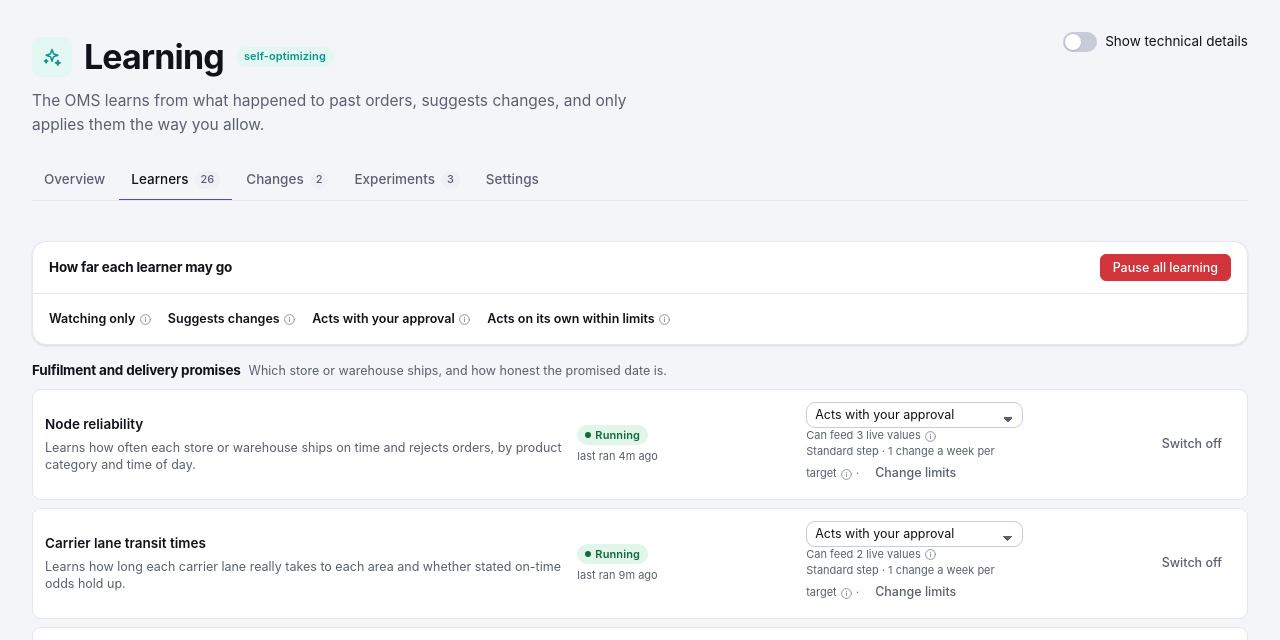
Test: Learning Console › lets a configuration admin change a learner’s limits
Click the button with aria-label "Change limits for Node reliability".
click(916, 473)  # box [862, 460, 969, 487]
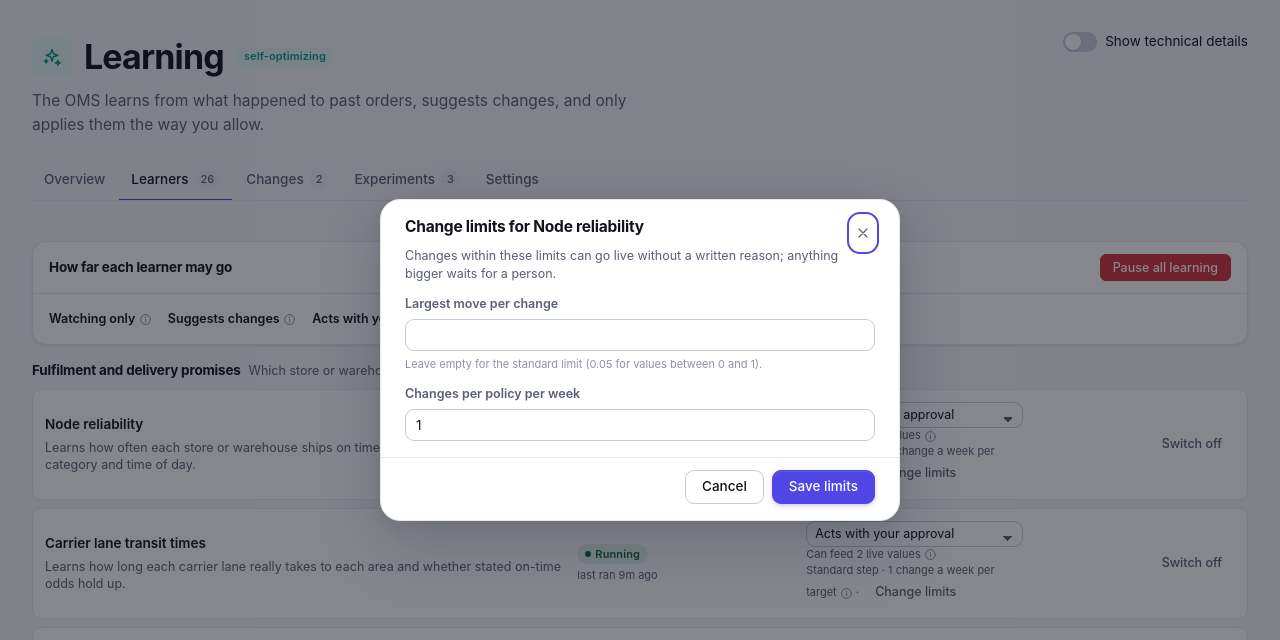
Type "0.02" into the number field labelled "Largest move per change".
click(640, 335); type("0.02")  # box [405, 319, 875, 351]
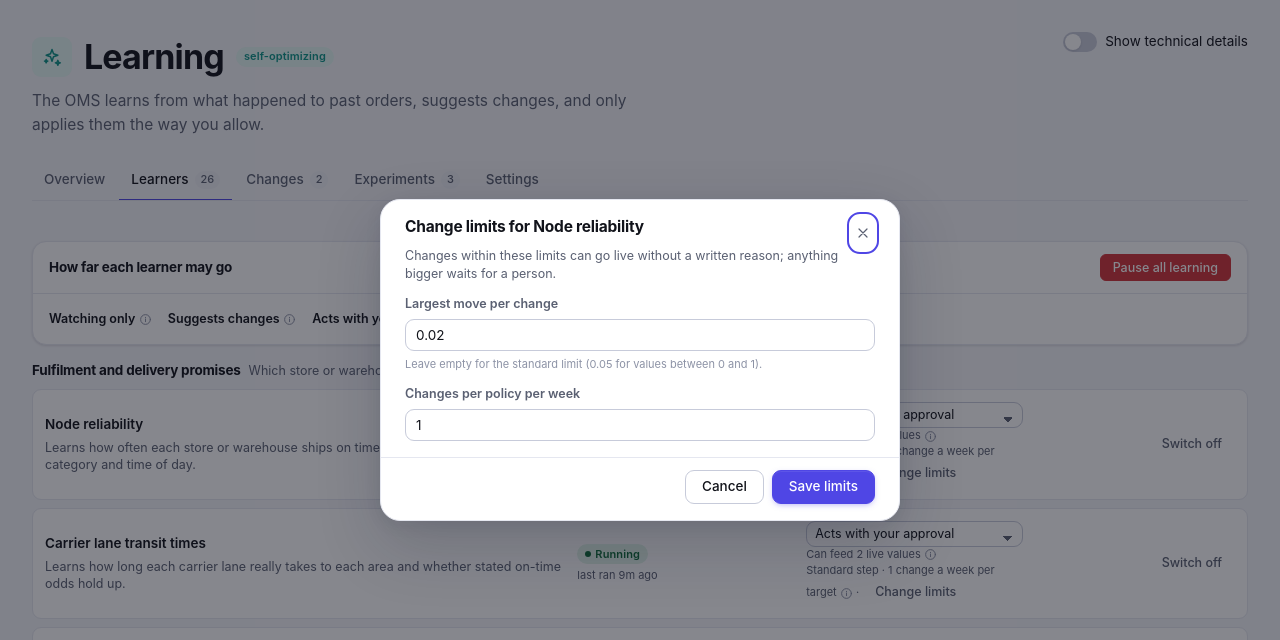
Replace the text in the number field labelled "Changes per policy per week" with "2" at (640, 425), box [405, 409, 875, 441]
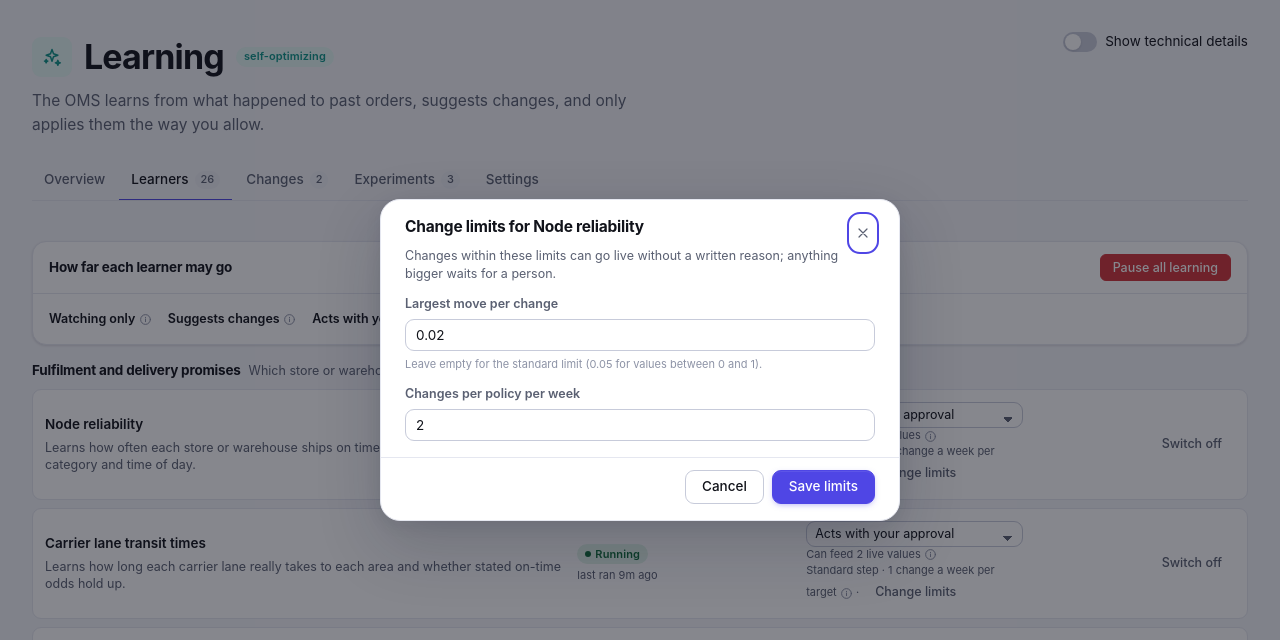
Click the button "Save limits".
click(823, 487)  # box [772, 470, 875, 504]
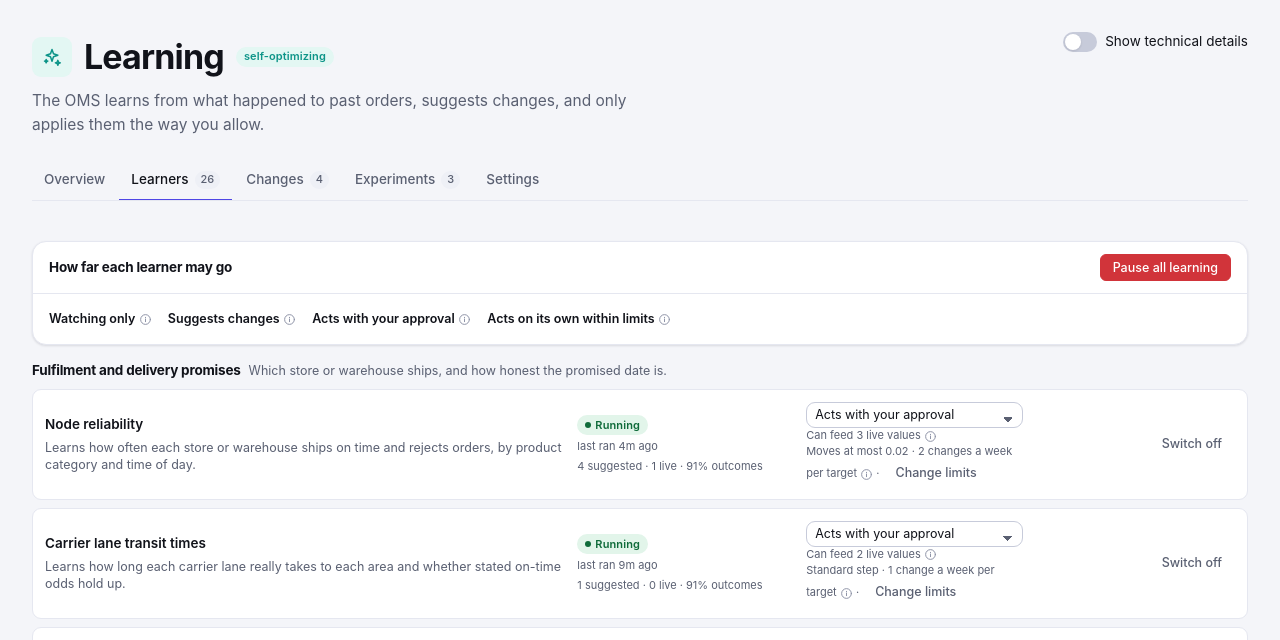
Expected: the text "Moves at most 0.02 · 2 changes a week per target" is shown, [806, 444, 1012, 480]
